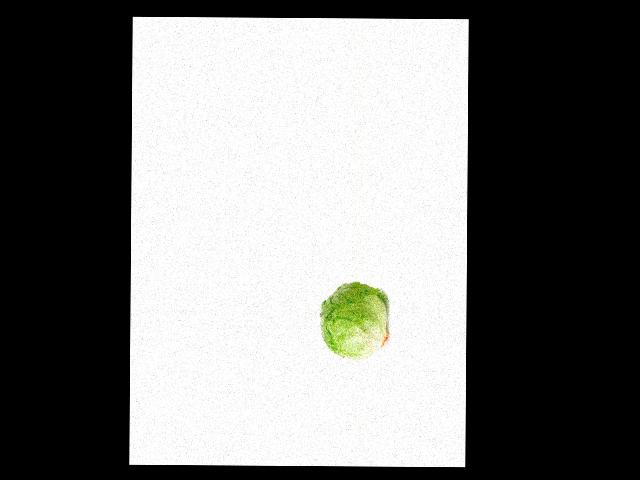lettuce: (319, 282, 387, 355)
